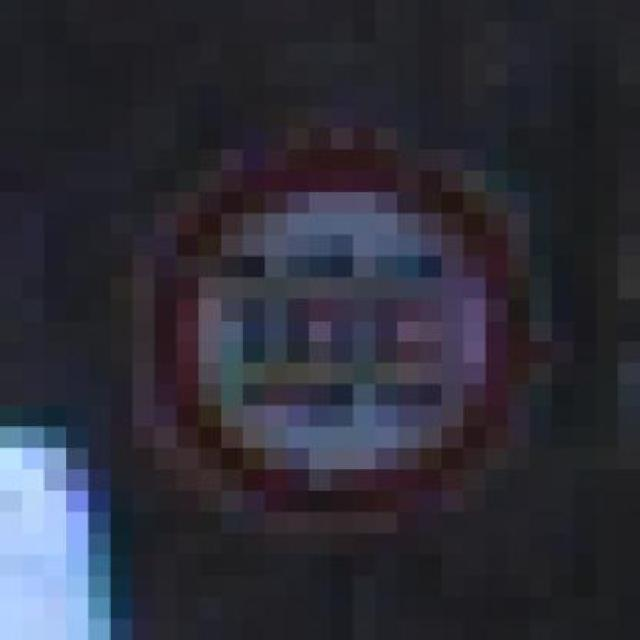forb_speed_over_100: (149, 145, 532, 520)
